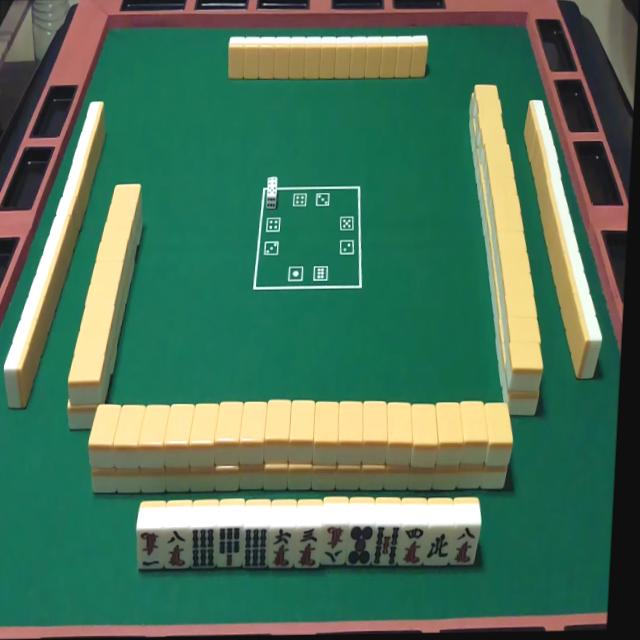m1: (136, 529, 165, 571)
m3: (295, 527, 323, 568)
m4: (400, 525, 429, 565)
m6: (267, 530, 294, 570)
m8: (163, 530, 192, 569), (453, 526, 481, 566), (321, 526, 348, 567)
north: (423, 526, 453, 563)
s5: (373, 526, 402, 567)
s6: (189, 527, 217, 569), (241, 529, 269, 570)
s7: (216, 527, 243, 568)
t5: (347, 524, 376, 565)
